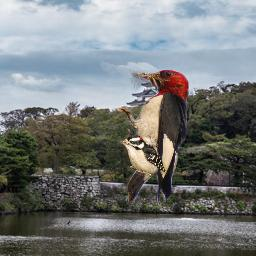Woodpecker: (117, 69, 189, 208), (117, 135, 167, 179)
